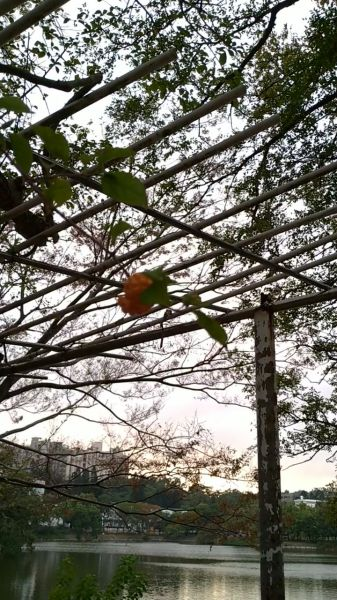eggs: (114, 267, 161, 321)
